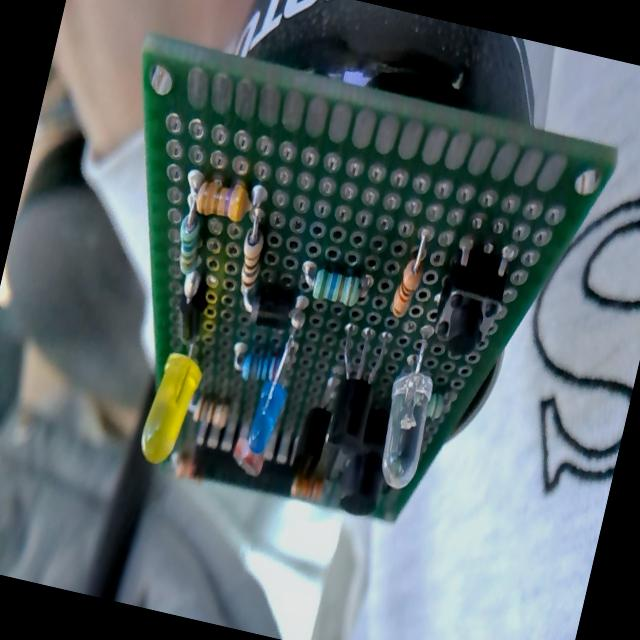diode: (168, 284, 208, 348)
led: (369, 330, 446, 491), (135, 348, 205, 469), (245, 327, 302, 459)
resistor: (160, 174, 222, 300), (224, 184, 278, 302), (191, 173, 256, 226), (388, 254, 425, 322), (311, 267, 362, 308), (237, 348, 284, 387)
switch: (426, 242, 512, 362)
transistor: (318, 322, 392, 460), (284, 358, 342, 483)
